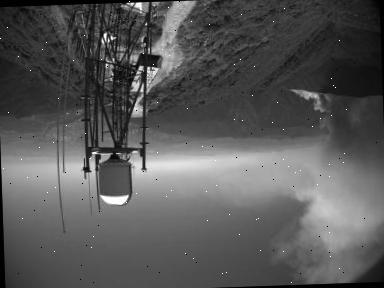smoke: (282, 82, 384, 284)
